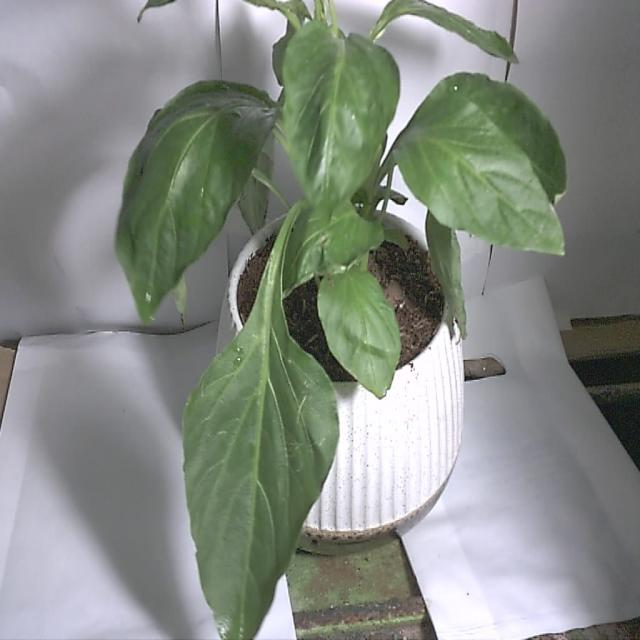Leaf: (180, 289, 341, 640), (111, 74, 282, 331), (399, 87, 572, 256), (278, 18, 404, 212)
